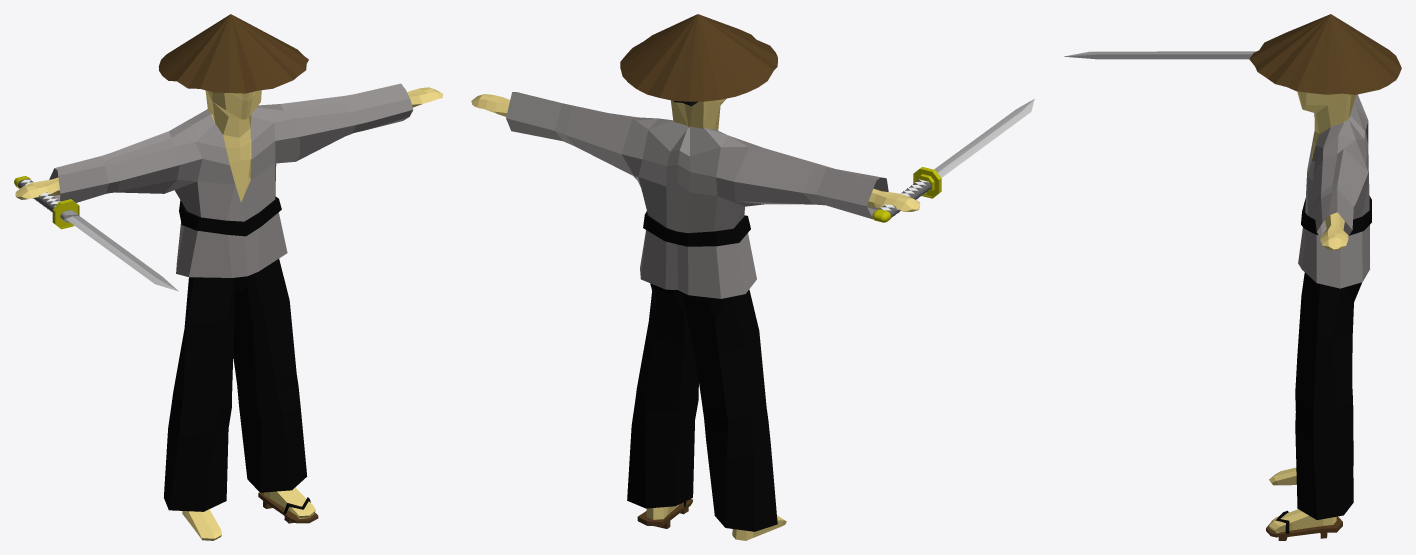
The model's file is samurai.glb.
3 views of the same model, side by side, from view 1: azimuth 30°, elevation 25°; view 2: azimuth 150°, elevation 25°; view 3: azimuth 270°, elevation 25° (orthographic). The views are drawn at different scales.
Visible parts, largest first — view 1: Cube.004, Cube.002, Cube.007, Cube.003, katana, Cube.005; view 2: Cube.004, Cube.002, Cube.007, Cube.003, katana; view 3: Cube.002, Cube.004, Cube.007, Cube.003, katana, Cube.005.
Part boxes in pixels (x1,y1,x2,y2): Cube.004: (49, 83, 413, 277); Cube.002: (164, 259, 307, 511); Cube.007: (158, 14, 308, 93); Cube.003: (15, 87, 442, 540); katana: (14, 176, 178, 291); Cube.005: (258, 492, 318, 523); Cube.004: (506, 92, 888, 298); Cube.002: (627, 283, 777, 531); Cube.007: (620, 14, 777, 101); Cube.003: (471, 94, 920, 540); katana: (872, 99, 1034, 222); Cube.002: (1295, 272, 1361, 519); Cube.004: (1298, 94, 1371, 288); Cube.007: (1249, 14, 1401, 94); Cube.003: (1269, 91, 1355, 533); katana: (1064, 51, 1256, 59); Cube.005: (1266, 510, 1342, 540).
Size of the model in its own units: 23.23 by 26.15 by 16.1.
